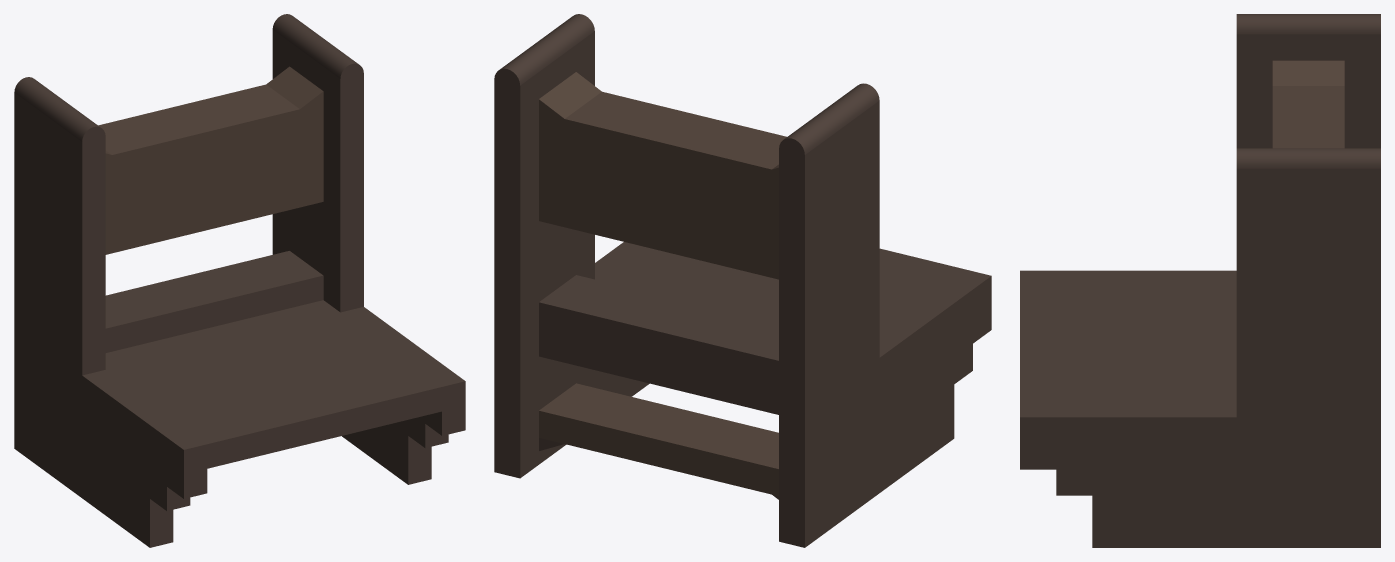
Rendered from chair.glb.
3 renders of one model, left to right at view 1: azimuth 30°, elevation 25°; view 2: azimuth 150°, elevation 25°; view 3: azimuth 270°, elevation 25°, orthographic. The views are drawn at different scales.
Visible parts, largest first — view 1: generated(Clone); view 2: generated(Clone); view 3: generated(Clone).
Boxes of the visible parts, x1,y1,x2,y2 form: generated(Clone): (14, 14, 465, 547); generated(Clone): (494, 14, 991, 547); generated(Clone): (1020, 14, 1380, 547).
Bounding box in the file's own units: 6 × 7.5 × 6.25.
Materials: 1 (1 with a texture image).
